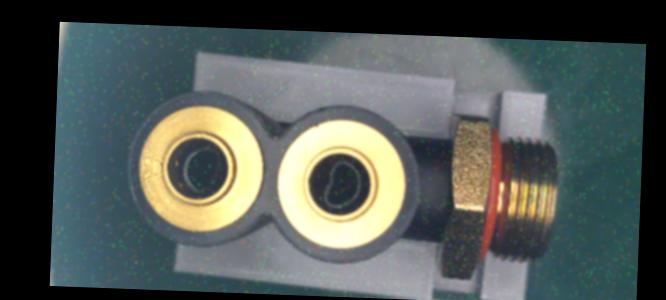off-centered: (176, 142, 228, 198), (315, 160, 368, 210)
